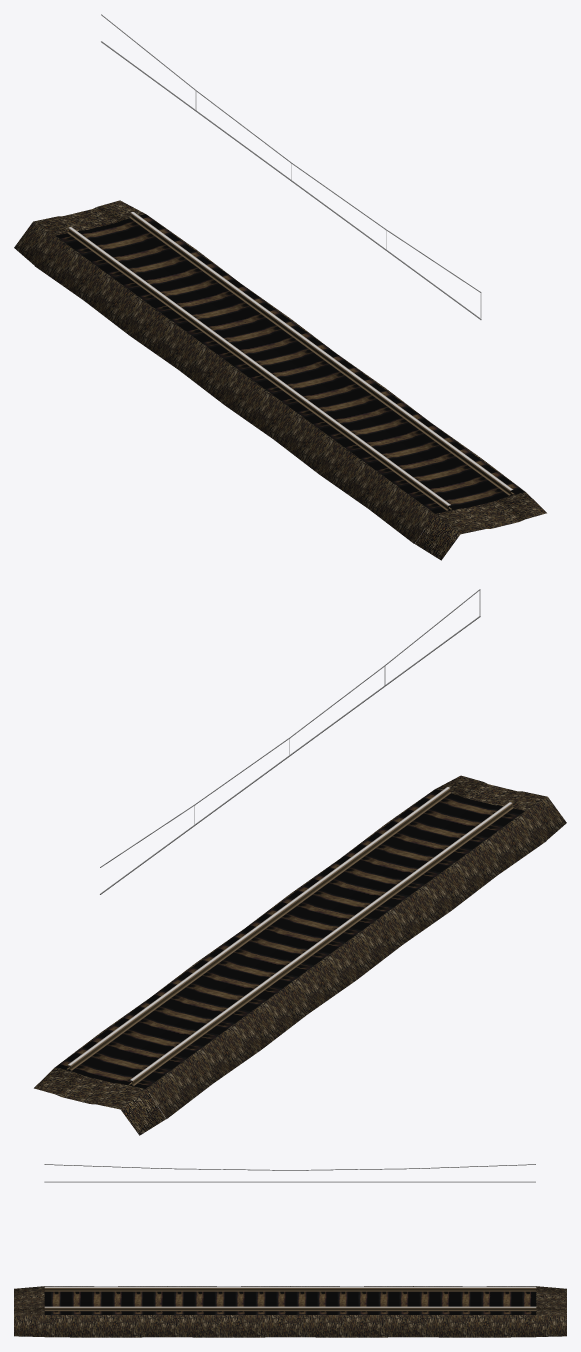
Rendered from AMB_KIN_1RAIL50.glb.
3 renders of one model, top to bottom at view 1: azimuth 30°, elevation 25°; view 2: azimuth 150°, elevation 25°; view 3: azimuth 270°, elevation 25°, orthographic. The views are drawn at different scales.
Parts seen in each view (by area): view 1: Mesh1; view 2: Mesh1; view 3: Mesh1.
Boxes of the visible parts, x1,y1,x2,y2 form: Mesh1: (14, 14, 546, 560); Mesh1: (34, 589, 566, 1135); Mesh1: (14, 1164, 566, 1337).
Bounding box in the file's own units: 10.12 × 17.11 × 56.25.
6 materials, 4 textured.
